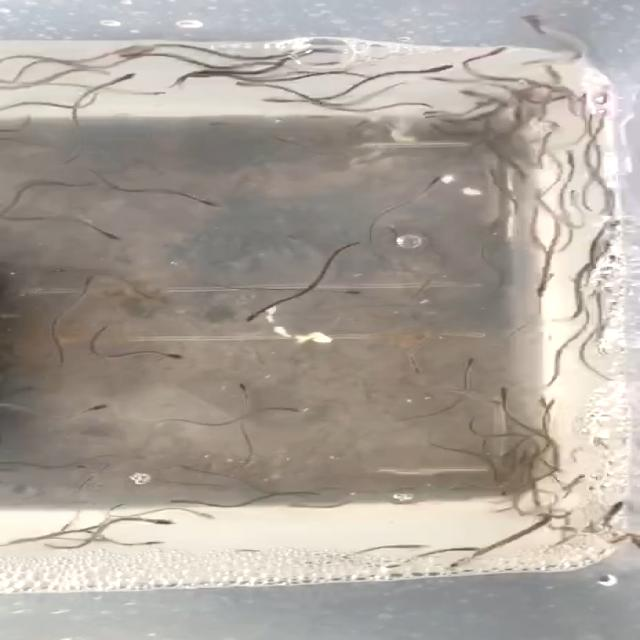inactive_glass_eel: (580, 499, 633, 523), (216, 308, 270, 326), (120, 516, 188, 530), (144, 345, 188, 366), (100, 69, 142, 91), (78, 394, 116, 418), (467, 42, 519, 58), (408, 168, 456, 185), (128, 88, 172, 106), (448, 86, 501, 100), (140, 284, 180, 302), (175, 70, 215, 88), (407, 76, 450, 92), (276, 403, 316, 420), (92, 222, 134, 238), (172, 460, 208, 475), (396, 354, 426, 372), (450, 539, 488, 553), (202, 116, 240, 130), (530, 398, 562, 414), (196, 194, 237, 206), (154, 494, 194, 506), (412, 102, 436, 122), (189, 508, 218, 524), (490, 382, 512, 402), (535, 276, 561, 292), (235, 379, 261, 394), (252, 96, 290, 106), (421, 62, 454, 72), (340, 286, 366, 298), (460, 352, 482, 364), (546, 514, 570, 520)
